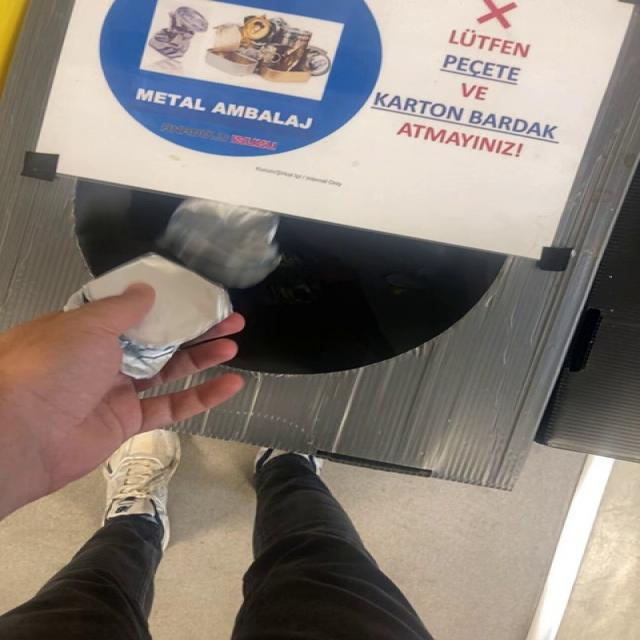bin: (3, 0, 640, 490)
metal: (63, 253, 232, 380)
